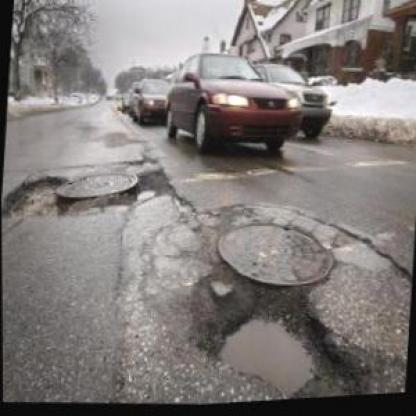pothole: (183, 262, 383, 406), (2, 168, 70, 229), (130, 161, 180, 212)
